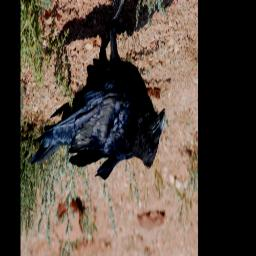Crow: (28, 0, 167, 182)
